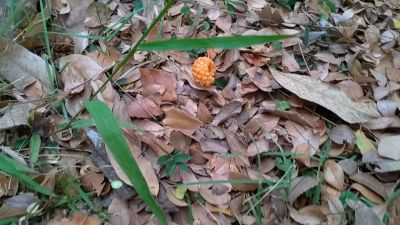eggs: (190, 54, 218, 86)
